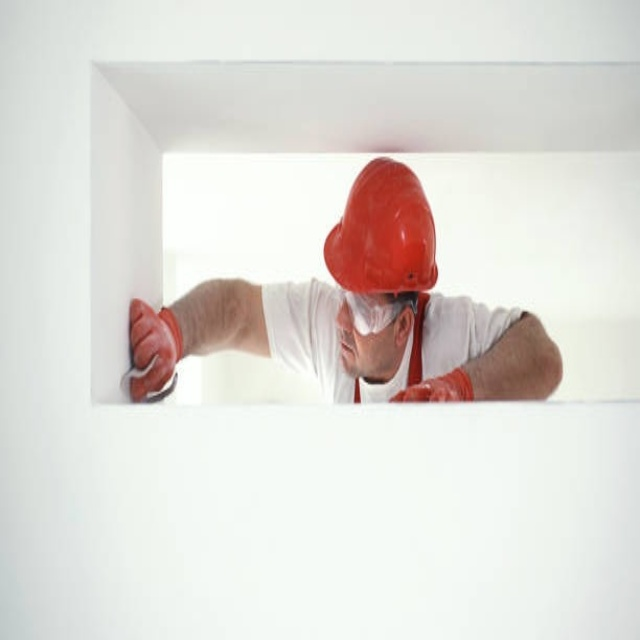Gafas: (343, 285, 406, 338)
Guantes: (127, 297, 183, 400), (390, 367, 475, 402)
Sin_mascara: (339, 321, 365, 377)
